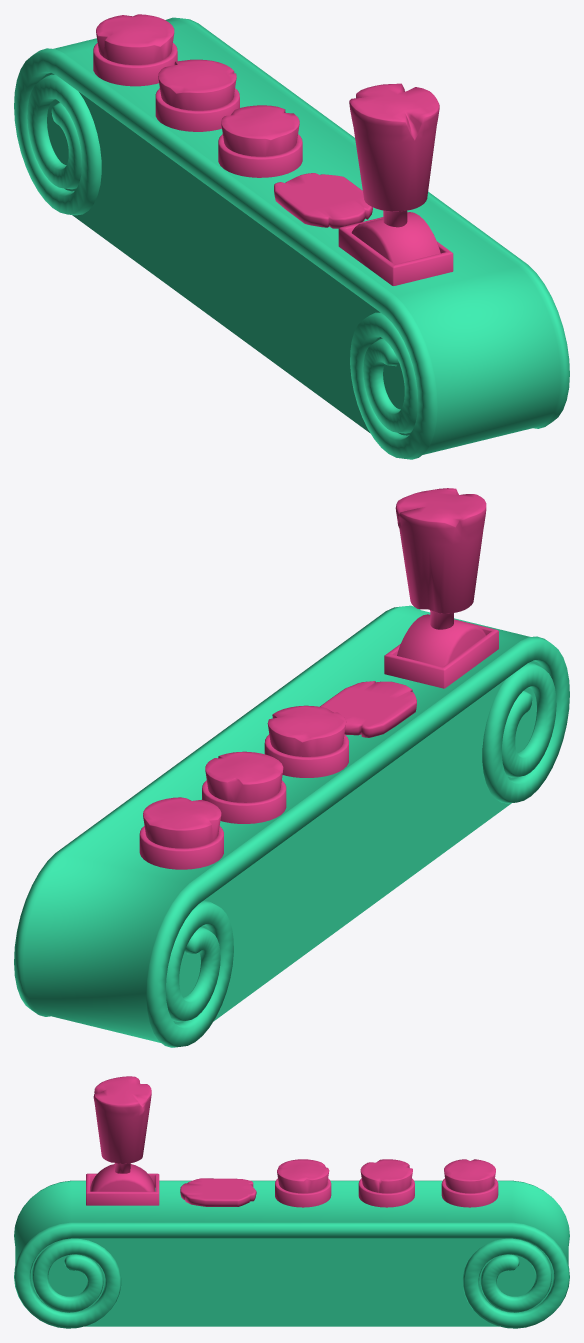
File: Hud_3D_Low.fbx
3 views of the same model, one above another, from view 1: azimuth 30°, elevation 25°; view 2: azimuth 150°, elevation 25°; view 3: azimuth 270°, elevation 25° (orthographic). The views are drawn at different scales.
Visible parts, largest first — view 1: Hud_Wood, Joystick, Button_frame, Pancarte, Button_Normal2, Button_Normal3, Button_Normal1; view 2: Hud_Wood, Joystick, Button_frame, Pancarte, Button_Normal2, Button_Normal3, Button_Normal1; view 3: Hud_Wood, Joystick, Button_frame, Pancarte, Button_Normal1, Button_Normal3, Button_Normal2.
Part boxes in pixels (x1,y1,x2,y2): Hud_Wood: (14,17,569,459); Joystick: (349,83,440,264); Button_frame: (93,43,453,285); Pancarte: (274,173,372,228); Button_Normal2: (158,59,236,110); Button_Normal3: (221,105,299,156); Button_Normal1: (96,14,174,64); Hud_Wood: (14,605,569,1047); Joystick: (395,488,486,666); Button_frame: (139,619,498,869); Pancarte: (320,681,416,737); Button_Normal2: (205,751,283,802); Button_Normal3: (267,705,346,756); Button_Normal1: (143,797,221,848); Hud_Wood: (14,1180,569,1328); Joystick: (90,1076,154,1191); Button_frame: (86,1173,498,1207); Pancarte: (180,1178,256,1206); Button_Normal1: (444,1159,495,1193); Button_Normal3: (277,1159,329,1193); Button_Normal2: (360,1159,412,1193).
Size of the model in its own units: 101 by 215 by 512.
